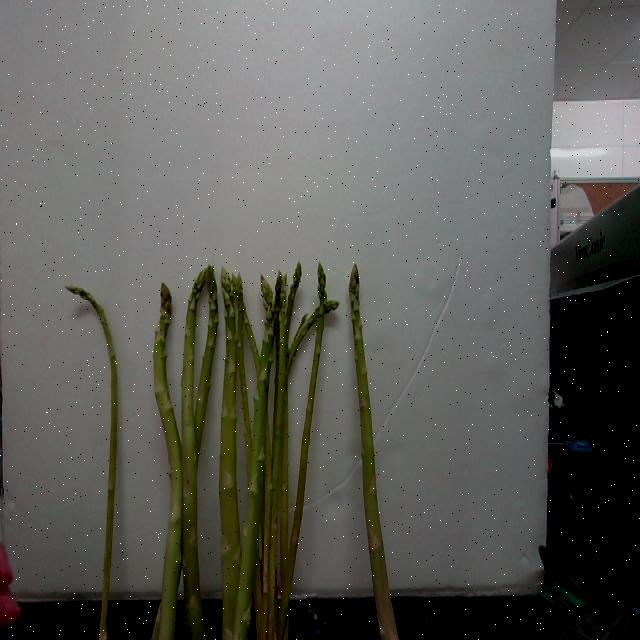aspargus: (64, 286, 120, 640), (349, 267, 400, 640)
